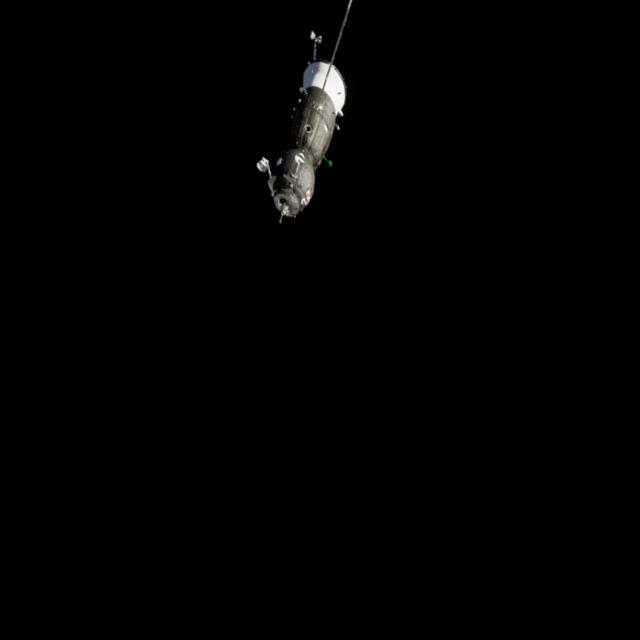Satellites revolving around earth: (246, 28, 360, 227)
